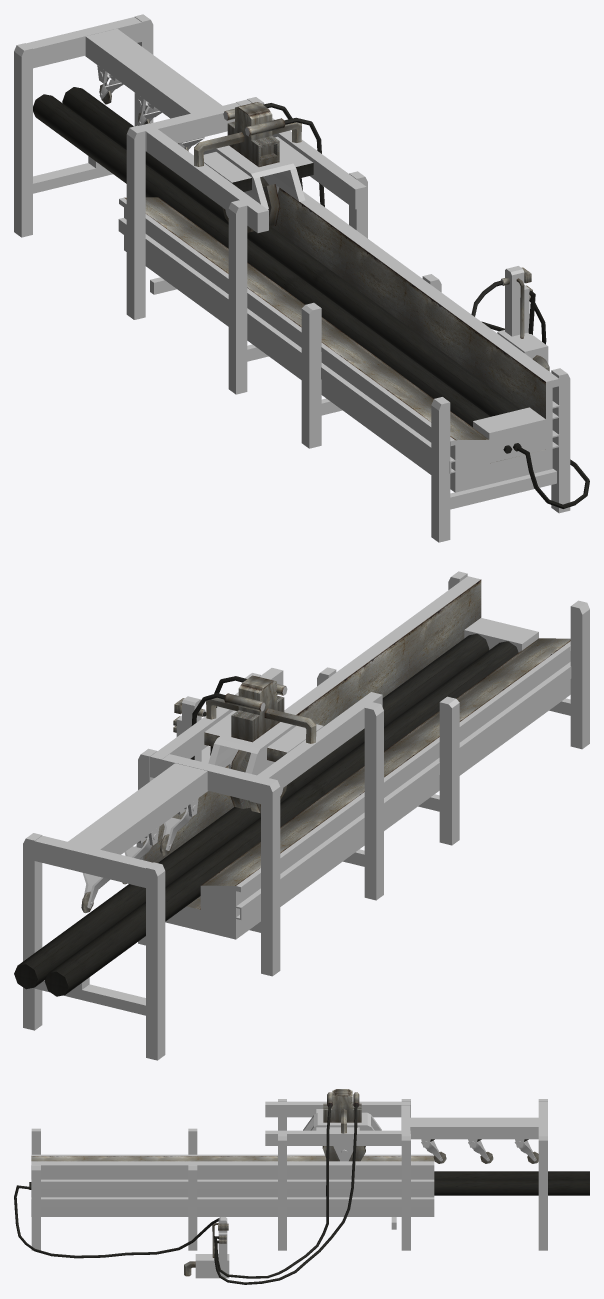
File: SM_Machine_02.FBX
3 views of the same model, one above another, from view 1: azimuth 30°, elevation 25°; view 2: azimuth 150°, elevation 25°; view 3: azimuth 270°, elevation 25° (orthographic). The views are drawn at different scales.
Visible parts, largest first — view 1: SM_Machine_02; view 2: SM_Machine_02; view 3: SM_Machine_02.
Boxes of the visible parts, bbox=[...] form: SM_Machine_02: bbox=[14, 14, 589, 542]; SM_Machine_02: bbox=[14, 571, 589, 1060]; SM_Machine_02: bbox=[14, 1089, 589, 1284].
Bounding box in the file's own units: 3.29 × 2.74 × 10.2.
